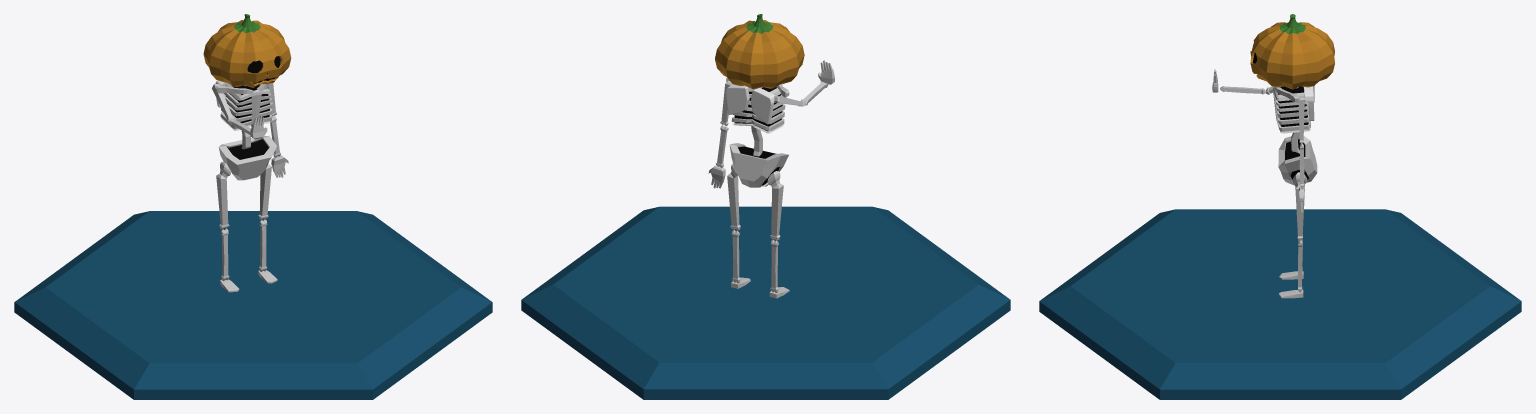
The model's file is Pumpkin_Figure.fbx.
3 views of the same model, side by side, from view 1: azimuth 30°, elevation 25°; view 2: azimuth 150°, elevation 25°; view 3: azimuth 270°, elevation 25° (orthographic). The views are drawn at different scales.
Parts seen in each view (by area): view 1: Base, Pumpkin, Waist, Ribs, Upper Leg Right, Upper Leg Left; view 2: Base, Pumpkin, Waist, Shoulder, Ribs, Upper Leg Right, Upper Leg Left; view 3: Base, Pumpkin, Waist, Ribs, Upper Leg Left.
Boxes of the visible parts, x1,y1,x2,y2 form: Base: (14, 211, 492, 399); Pumpkin: (203, 14, 291, 87); Waist: (218, 135, 276, 180); Ribs: (220, 83, 272, 130); Upper Leg Right: (216, 161, 230, 229); Upper Leg Left: (258, 164, 271, 219); Base: (521, 206, 1010, 399); Pumpkin: (715, 14, 804, 89); Waist: (729, 143, 788, 187); Shoulder: (725, 84, 774, 124); Ribs: (731, 86, 785, 133); Upper Leg Right: (767, 171, 783, 240); Upper Leg Left: (727, 164, 740, 230); Base: (1039, 209, 1521, 399); Pumpkin: (1250, 14, 1334, 89); Waist: (1278, 136, 1317, 185); Ribs: (1273, 86, 1310, 133); Upper Leg Left: (1292, 172, 1307, 240).
Size of the model in its own units: 483 by 378 by 558.
